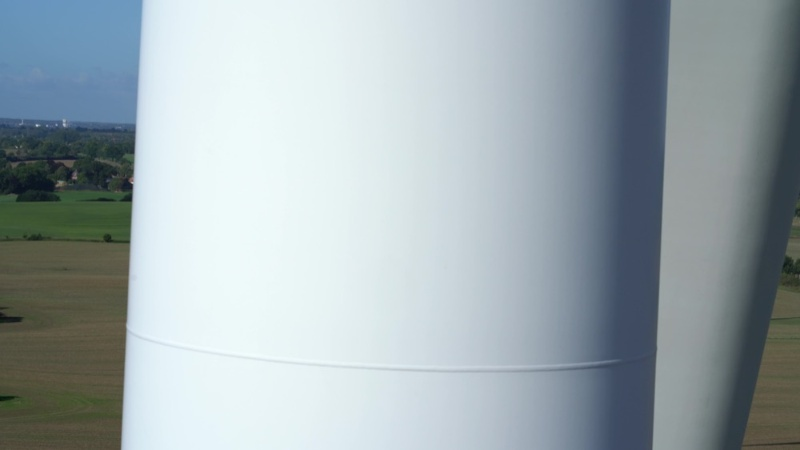weldseam: (122, 315, 660, 379)
